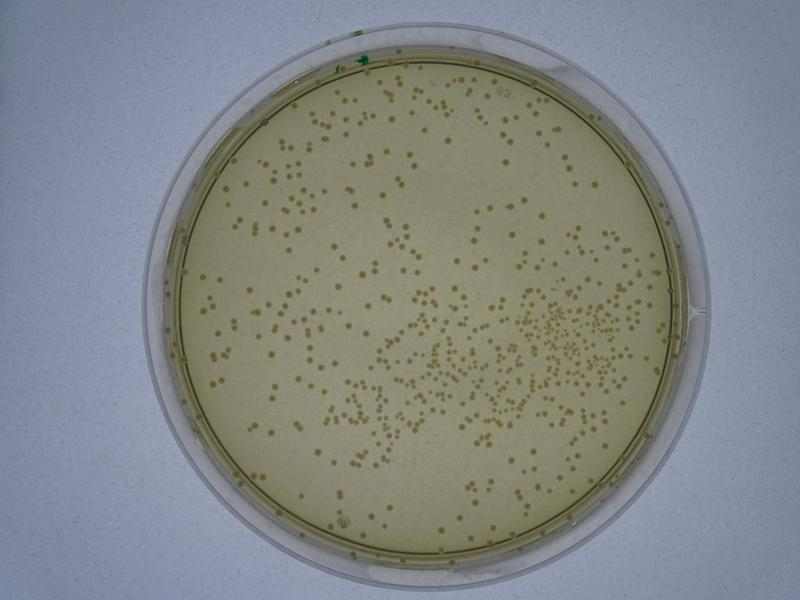colony: (409, 161, 424, 174), (450, 252, 462, 268), (347, 157, 359, 172), (498, 153, 511, 166), (535, 208, 548, 221), (330, 279, 343, 292), (441, 135, 454, 147), (196, 271, 208, 284), (506, 227, 518, 240), (434, 523, 446, 536), (242, 285, 256, 296), (470, 205, 482, 217), (377, 189, 389, 201), (387, 113, 398, 126), (527, 445, 539, 456), (266, 348, 276, 361), (265, 426, 275, 439), (380, 145, 391, 156), (598, 440, 609, 451), (327, 240, 339, 250), (506, 454, 516, 466), (361, 327, 371, 339), (343, 320, 353, 332), (470, 263, 480, 275), (312, 447, 322, 458), (385, 502, 396, 512), (349, 200, 359, 211), (285, 244, 294, 256), (450, 281, 459, 293), (362, 301, 372, 311), (569, 179, 579, 189), (456, 513, 466, 523), (295, 224, 304, 235), (591, 179, 600, 190), (542, 142, 552, 150), (312, 266, 320, 274)
